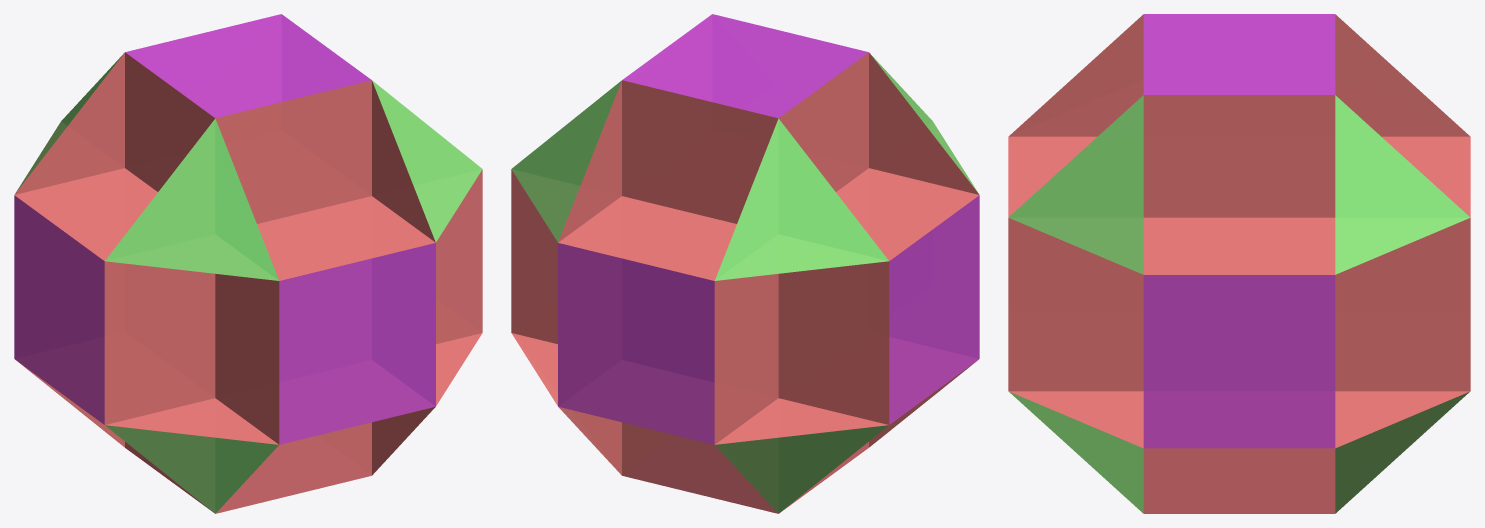
Rendered from SmallCubicuboctahedron.obj.
The picture shows the model from 3 angles, left to right: view 1: azimuth 30°, elevation 25°; view 2: azimuth 150°, elevation 25°; view 3: azimuth 270°, elevation 25°; orthographic projection. The views are drawn at different scales.
Size of the model in its own units: 2.41 by 2.41 by 2.41.
